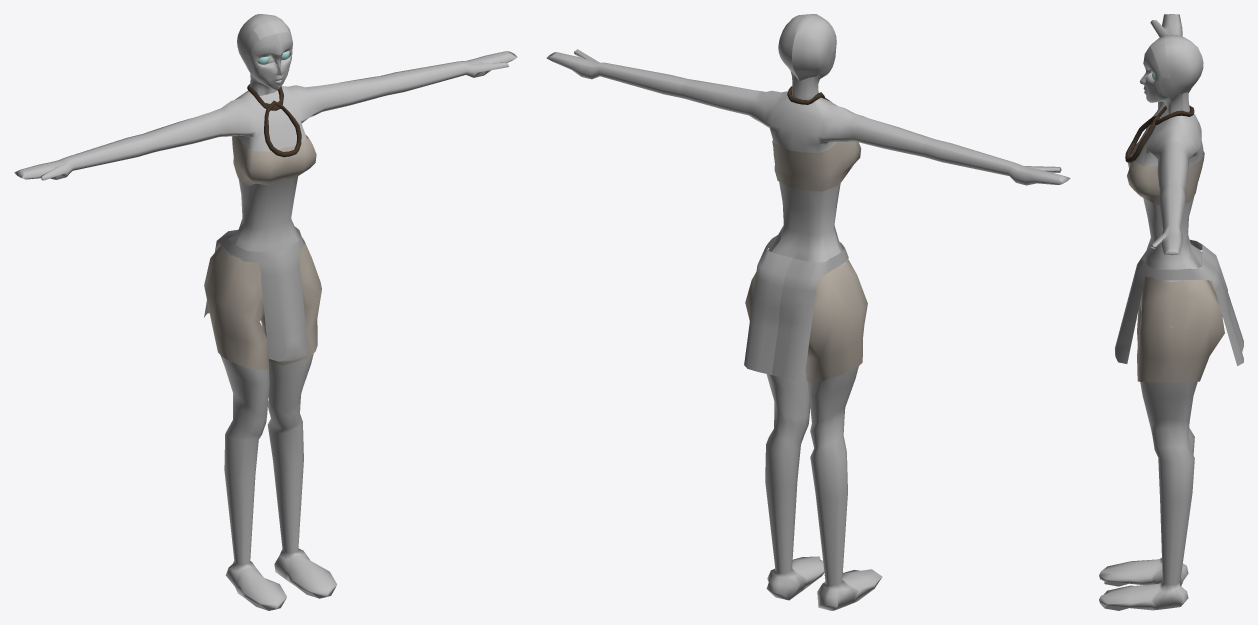
The model's file is Izabelle_2.fbx.
The picture shows the model from 3 angles, left to right: view 1: azimuth 30°, elevation 25°; view 2: azimuth 150°, elevation 25°; view 3: azimuth 270°, elevation 25°; orthographic projection. The views are drawn at different scales.
Visible parts, largest first — view 1: ModelMesh, polySurface2, skirt1, polySurface1, ring; view 2: ModelMesh, skirt1, polySurface2, polySurface1; view 3: ModelMesh, polySurface2, skirt1, polySurface1, ring, ring1.
Boxes of the visible parts, bbox=[...] form: ModelMesh: bbox=[14, 14, 517, 610]; polySurface2: bbox=[204, 238, 321, 370]; skirt1: bbox=[204, 227, 307, 361]; polySurface1: bbox=[231, 135, 316, 185]; ring: bbox=[264, 100, 301, 157]; ModelMesh: bbox=[546, 14, 1070, 610]; skirt1: bbox=[744, 235, 848, 380]; polySurface2: bbox=[745, 245, 867, 382]; polySurface1: bbox=[772, 140, 861, 191]; ModelMesh: bbox=[1099, 14, 1203, 610]; polySurface2: bbox=[1137, 252, 1224, 382]; skirt1: bbox=[1115, 239, 1243, 365]; polySurface1: bbox=[1127, 143, 1204, 205]; ring: bbox=[1125, 115, 1159, 162]; ring1: bbox=[1152, 105, 1194, 124].
Bounding box in the file's own units: 5.59 × 6.04 × 1.42.
